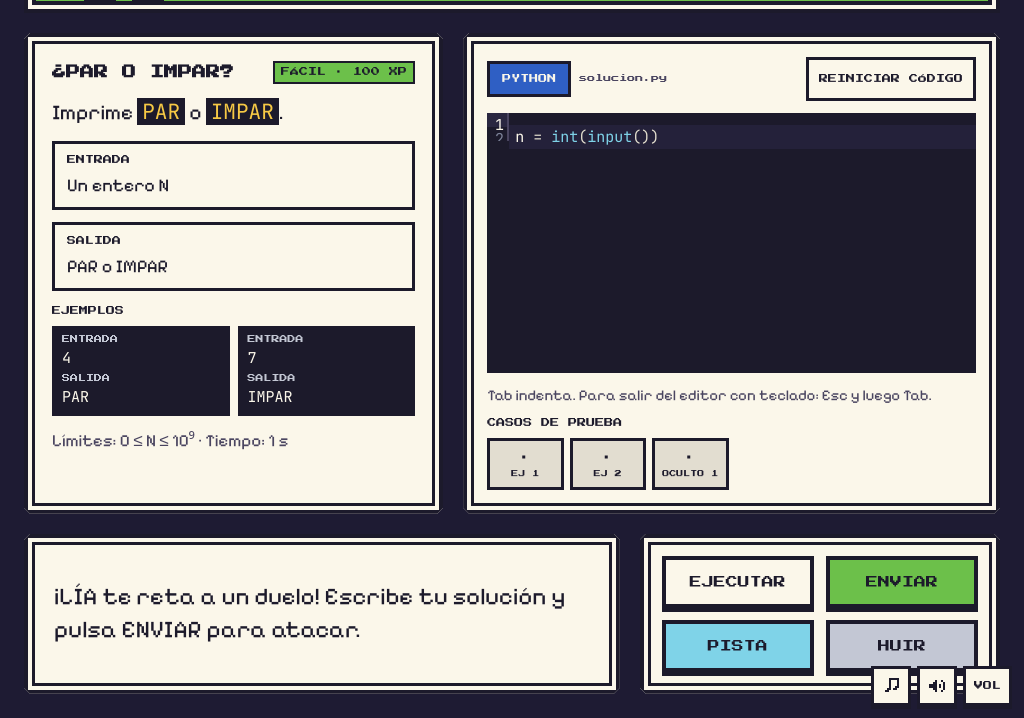
Test: BattleScreen › muestra la salida del compilador en CE
(page scrolled)
What coordinates should you click on to do the following:
click the button "EJECUTAR"
I would click on:
 (738, 582)
Its box is [662,556,814,608].
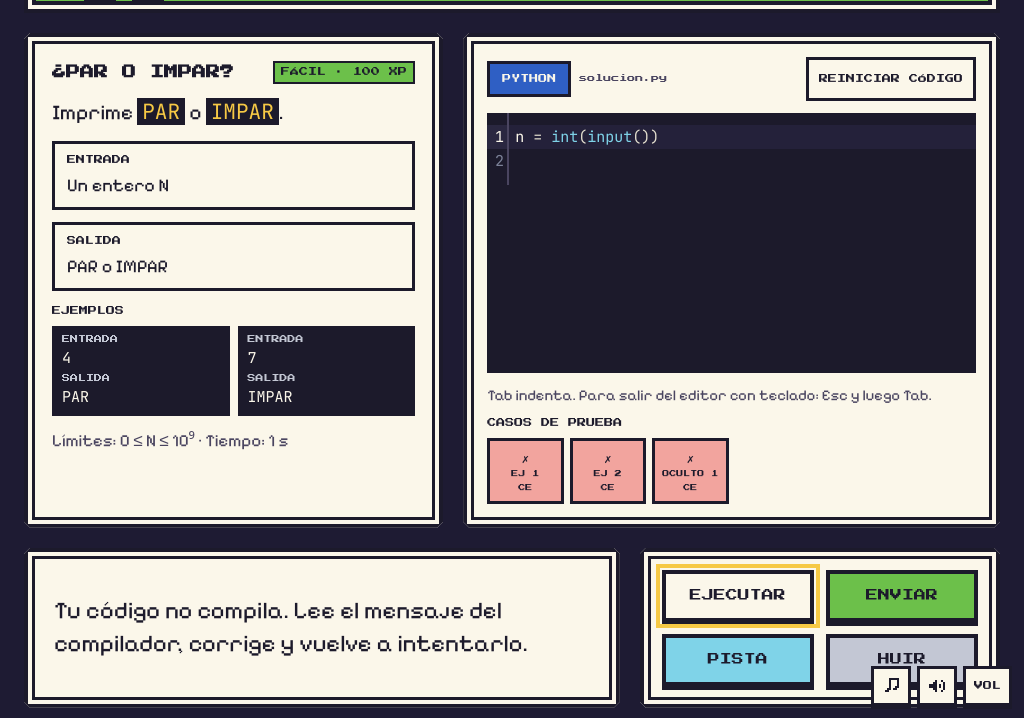
Check: the message shows "no compila", box [54,596,528,658]
